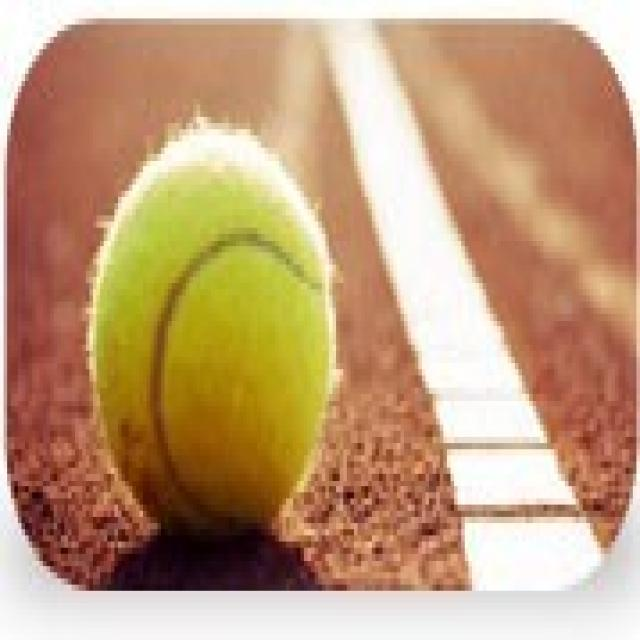Tennis Ball: (89, 117, 340, 542)
